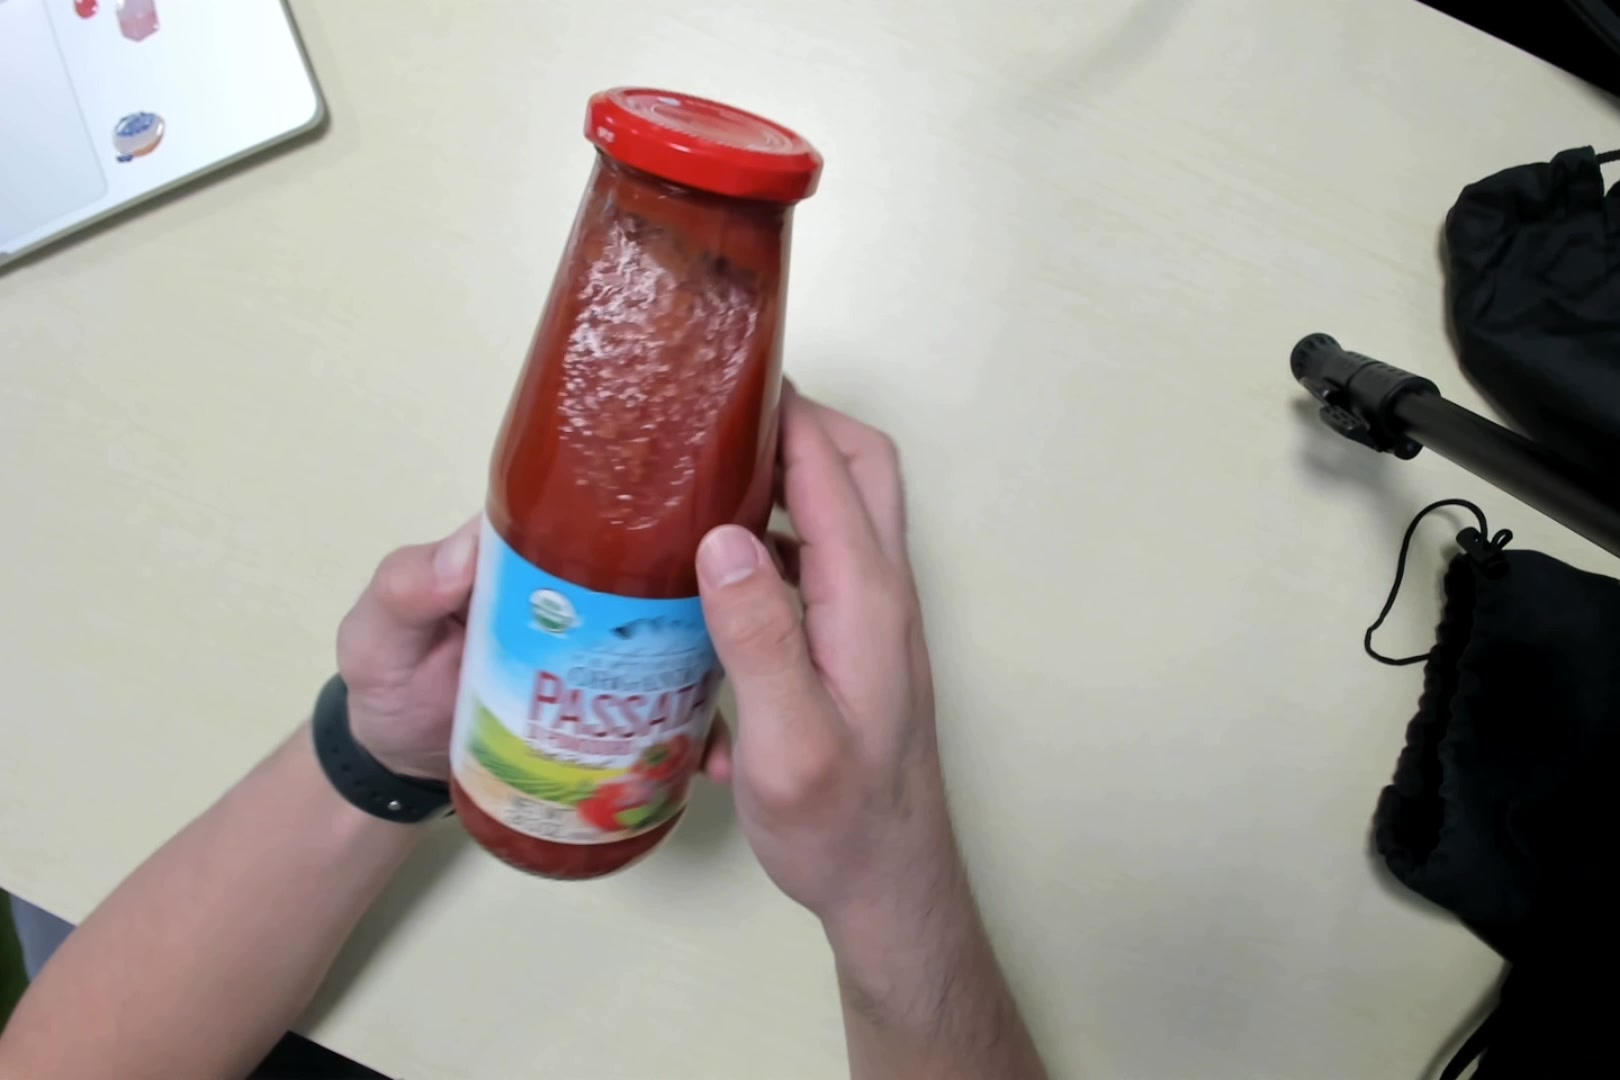PastaSauce_600-699g_NonHalal_NonHealthy: (445, 95, 823, 875)
